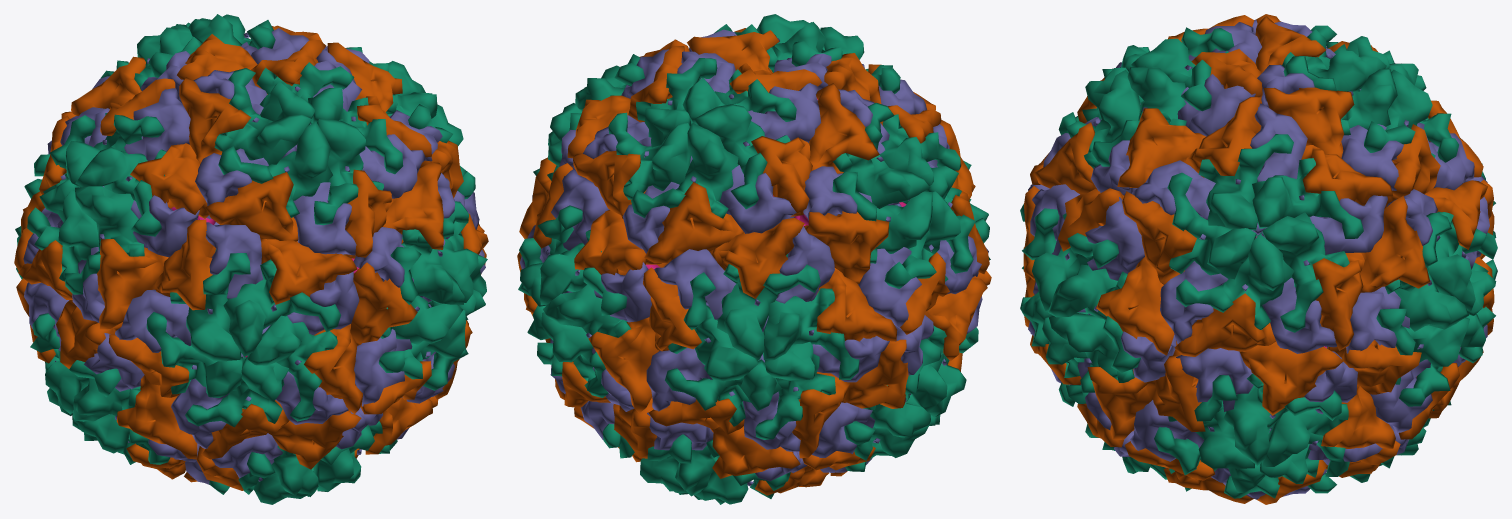
The model's file is 4RHV.glb.
3 views of the same model, side by side, from view 1: azimuth 30°, elevation 25°; view 2: azimuth 150°, elevation 25°; view 3: azimuth 270°, elevation 25° (orthographic). The views are drawn at different scales.
Size of the model in its own units: 307 by 307 by 307.
